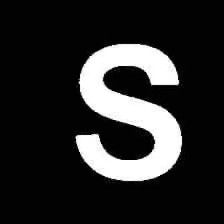LTR_S: (70, 33, 184, 187)
